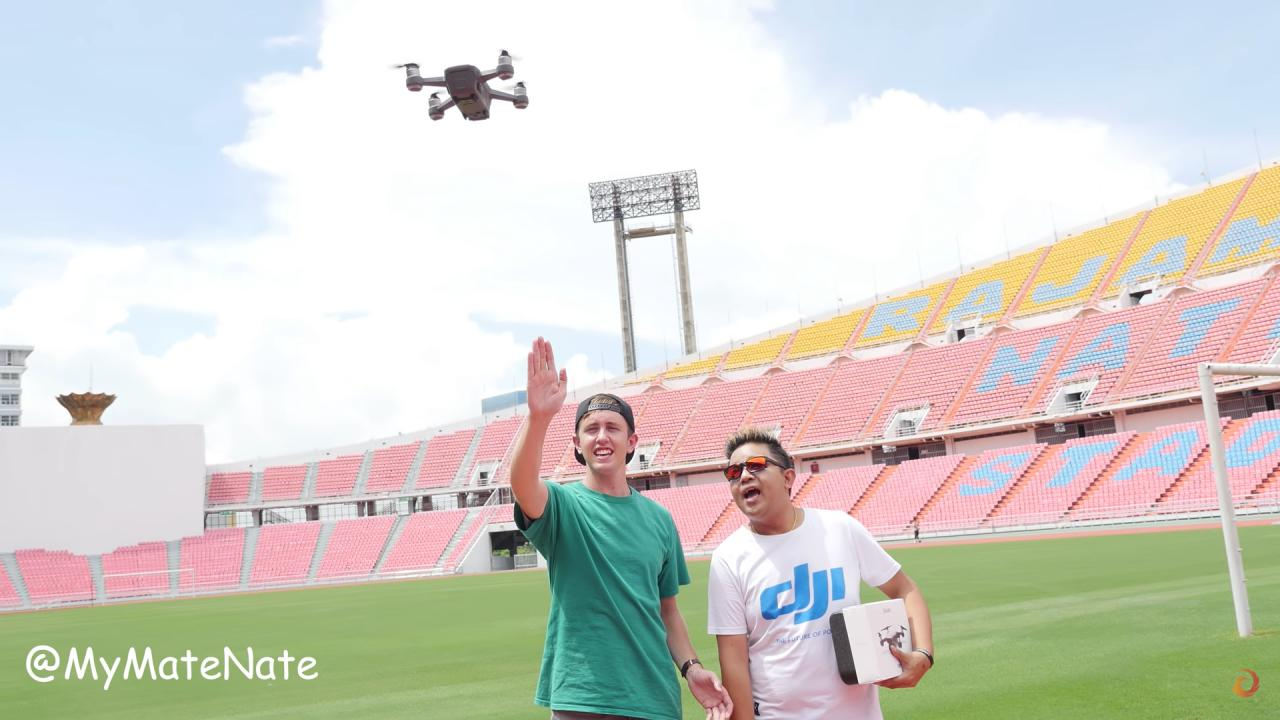Drone: (366, 30, 558, 139)
